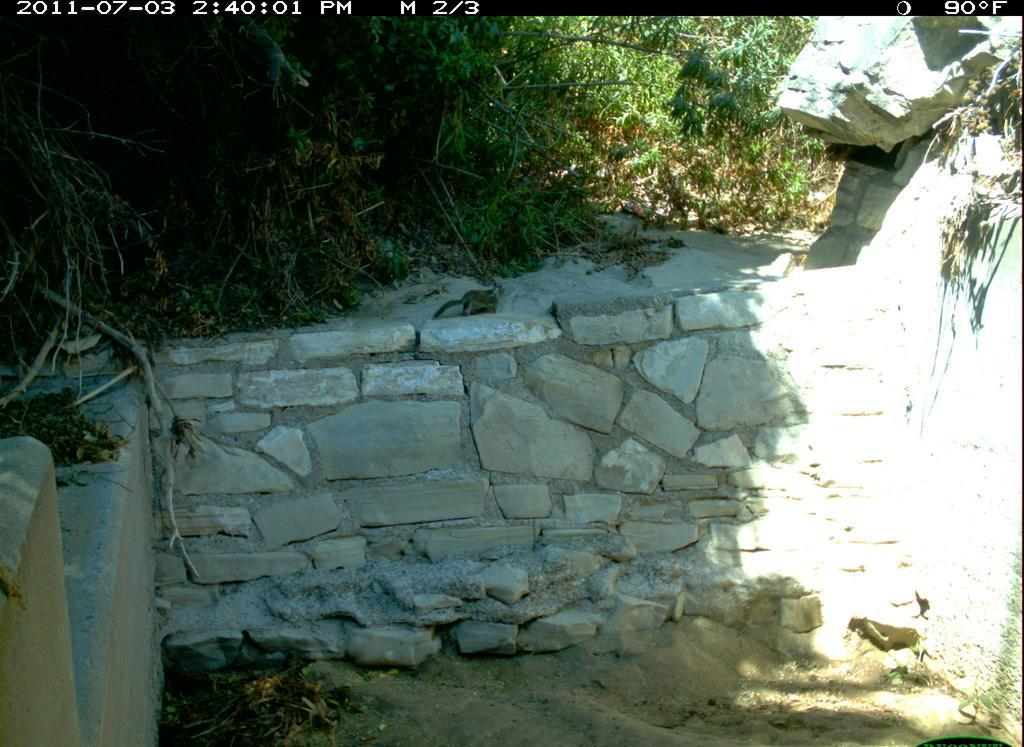squirrel: (434, 274, 510, 327)
